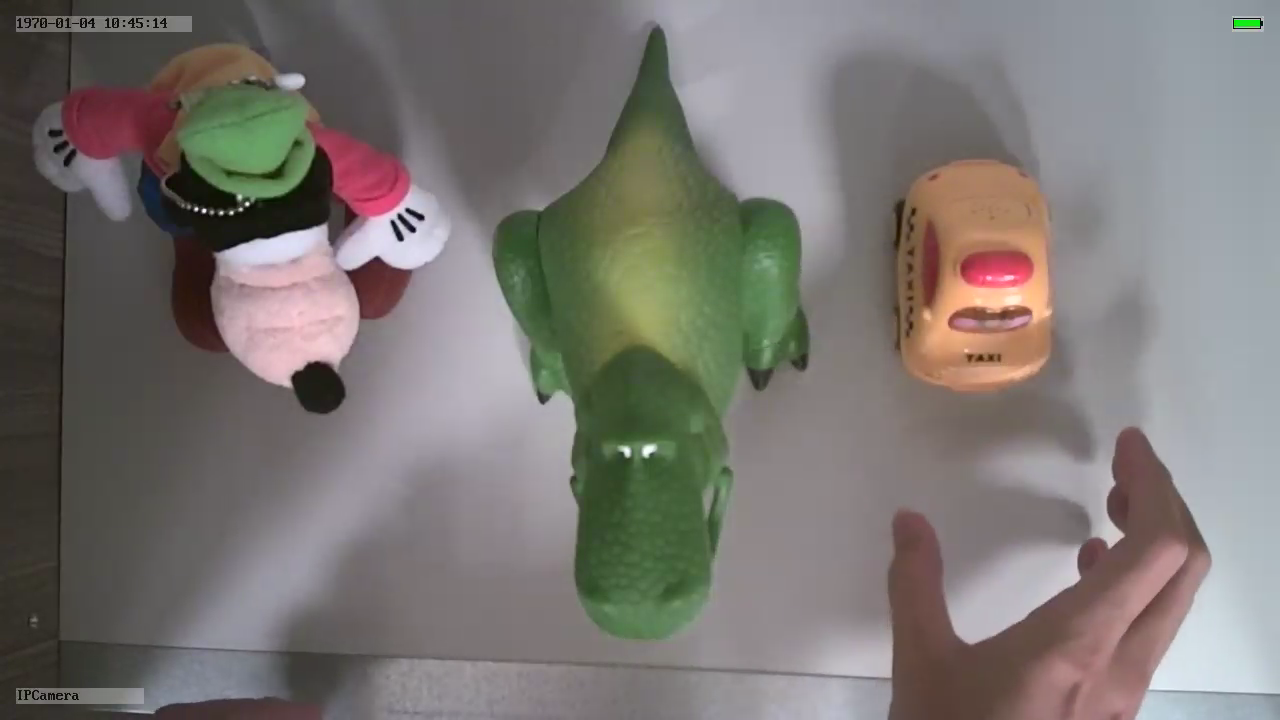goofy: (30, 34, 455, 418)
